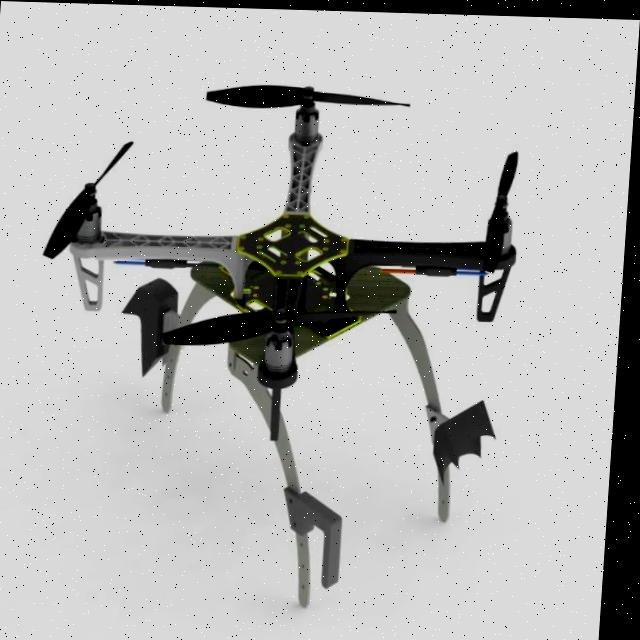drone: (4, 61, 563, 453)
